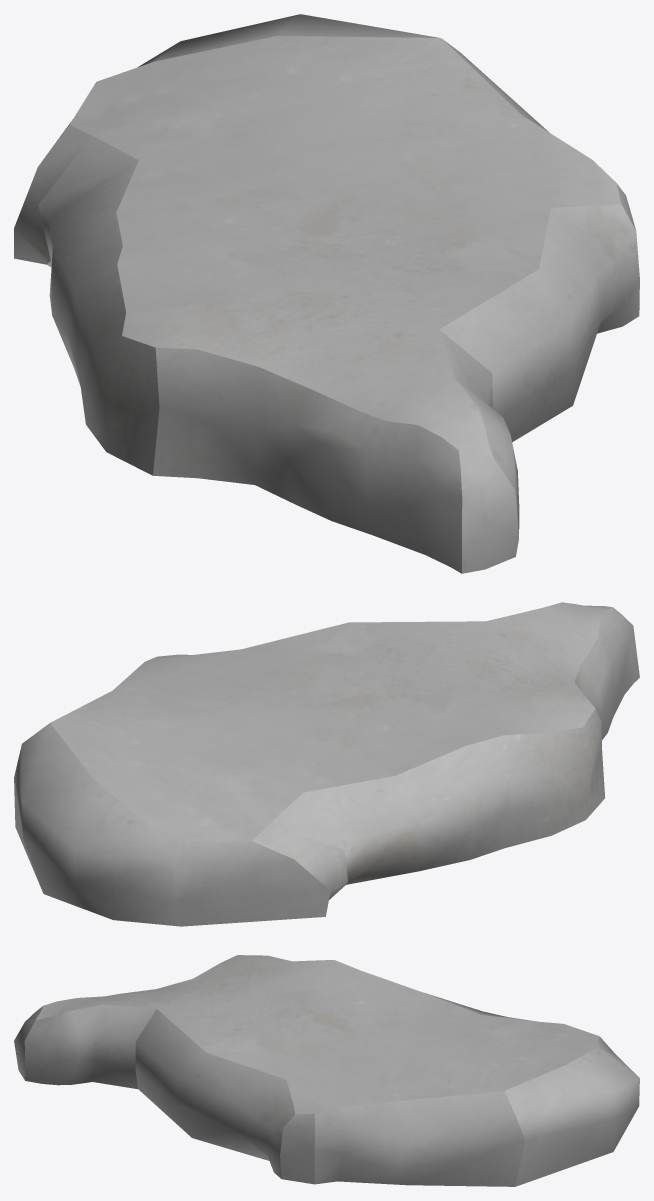
The model's file is SM_Ground_Debris_M2.fbx.
3 renders of one model, top to bottom at view 1: azimuth 30°, elevation 25°; view 2: azimuth 150°, elevation 25°; view 3: azimuth 270°, elevation 25°, orthographic. The views are drawn at different scales.
Parts seen in each view (by area): view 1: SM_Ground_Debris_M2_LOD0; view 2: SM_Ground_Debris_M2_LOD0; view 3: SM_Ground_Debris_M2_LOD0.
Boxes of the visible parts, box(x1,y1,x2,y2) form: SM_Ground_Debris_M2_LOD0: box(14, 14, 639, 573); SM_Ground_Debris_M2_LOD0: box(14, 602, 639, 926); SM_Ground_Debris_M2_LOD0: box(14, 955, 639, 1186).
Size of the model in its own units: 118 by 184 by 27.73.
Materials: 1 (1 with a texture image).
